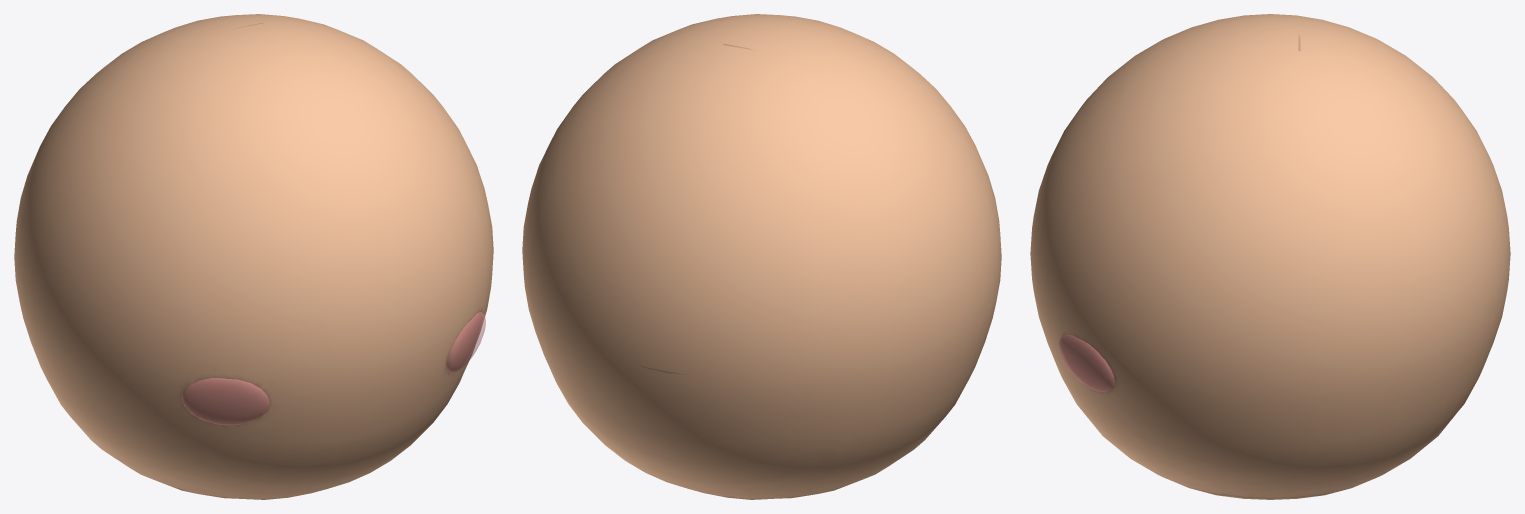
File: char_head.glb
3 views of the same model, side by side, from view 1: azimuth 30°, elevation 25°; view 2: azimuth 150°, elevation 25°; view 3: azimuth 270°, elevation 25° (orthographic).
Visible parts, largest first — view 1: char_head; view 2: char_head; view 3: char_head.
Boxes of the visible parts, box(x1,y1,x2,y2) form: char_head: box(14, 14, 493, 499); char_head: box(522, 14, 1001, 499); char_head: box(1030, 14, 1510, 499).
Size of the model in its own units: 0.54 by 0.5393 by 0.54.
2 materials, 1 textured.
